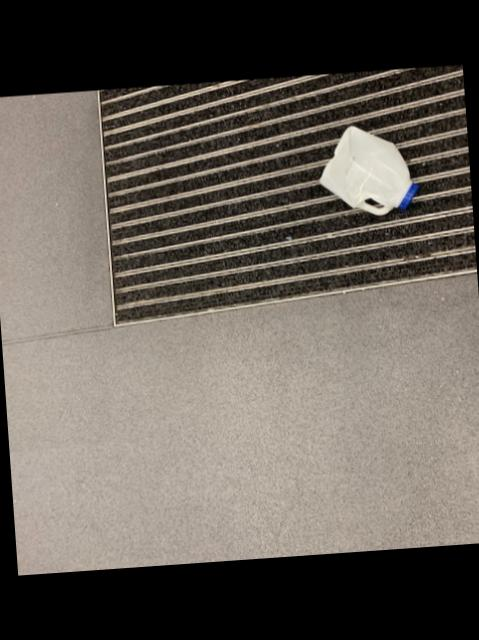plastic: (316, 128, 415, 216)
